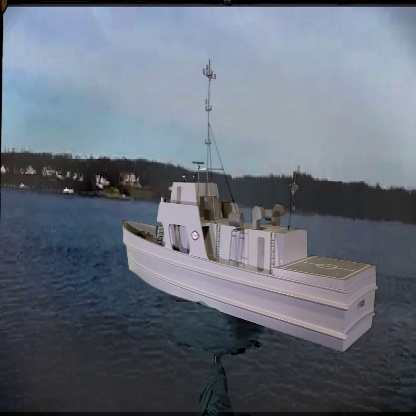YP689: (121, 60, 377, 354)
